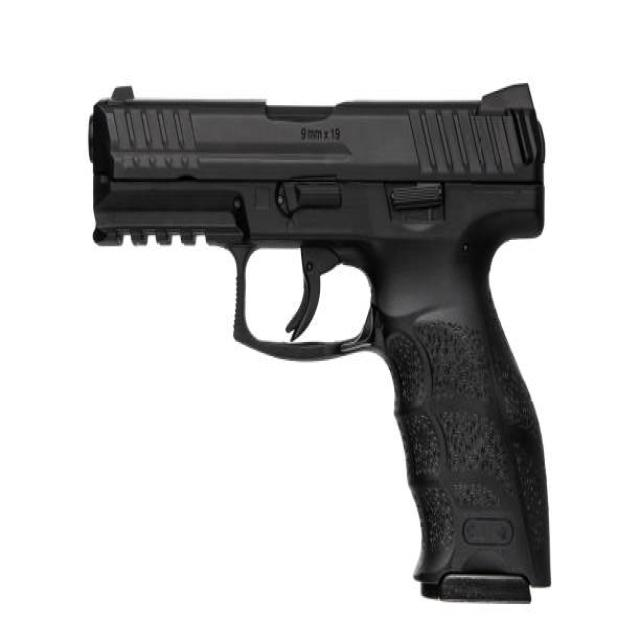pistol: (77, 70, 565, 607)
